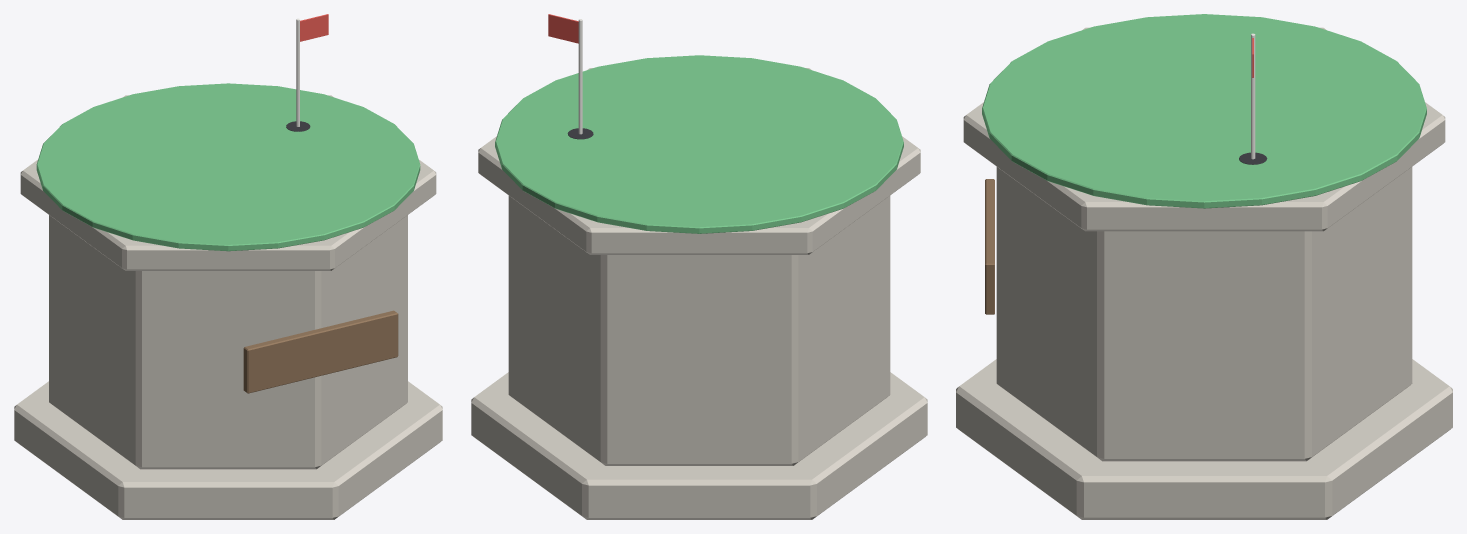
The picture shows the model from 3 angles, left to right: view 1: azimuth 30°, elevation 25°; view 2: azimuth 150°, elevation 25°; view 3: azimuth 270°, elevation 25°; orthographic projection. The views are drawn at different scales.
Parts seen in each view (by area): view 1: Plinth; view 2: Plinth; view 3: Plinth.
Part boxes in pixels (left/top/right/bottom): Plinth: left=14, top=14, right=442, bottom=519; Plinth: left=471, top=14, right=927, bottom=519; Plinth: left=956, top=14, right=1452, bottom=519.
Bounding box in the file's own units: 1.1 × 1.22 × 1.23.
